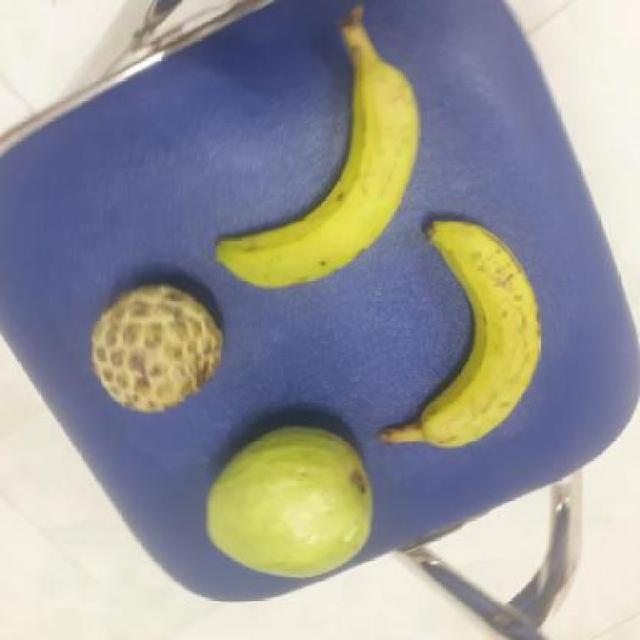banana: (200, 38, 414, 285), (377, 224, 541, 447)
guava: (200, 423, 372, 582), (78, 280, 220, 415)
sugar apple: (84, 282, 221, 412)
